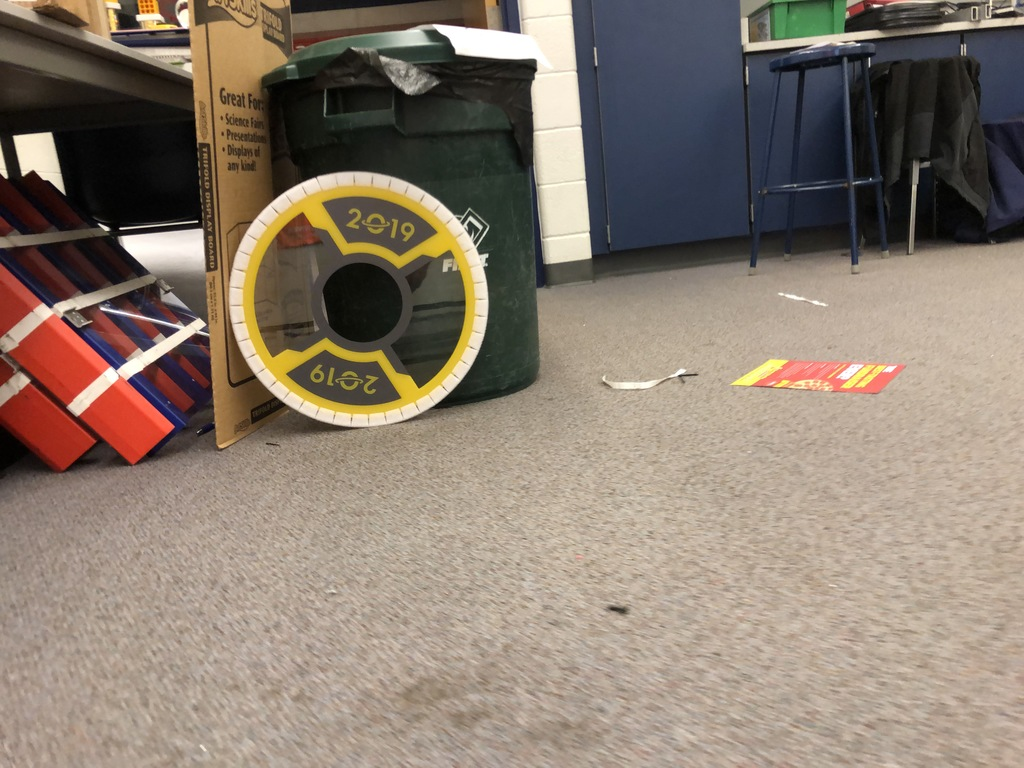hatch_panel: (228, 166, 491, 444)
